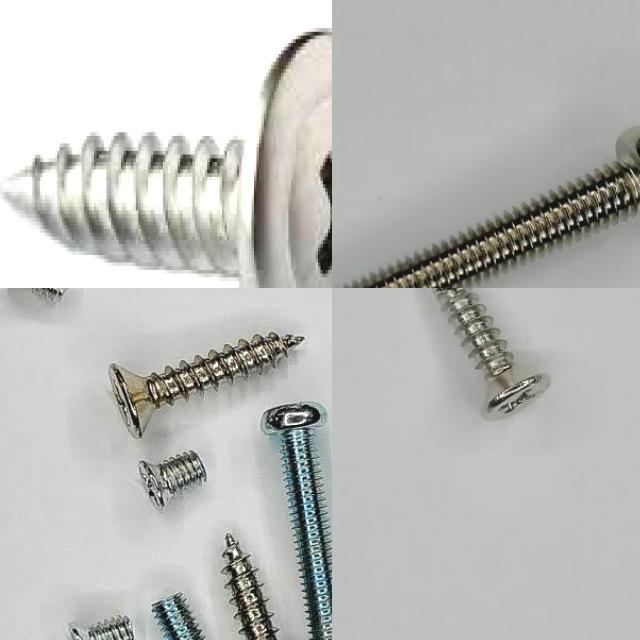Screw: (0, 32, 332, 288), (343, 128, 640, 288), (110, 332, 304, 437), (262, 403, 332, 640), (435, 288, 551, 416), (223, 533, 279, 640), (138, 451, 206, 509), (69, 616, 134, 640)
